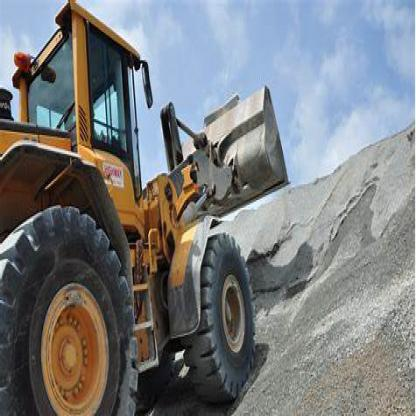bull_dozer/loader/grader: (3, 3, 292, 414)
